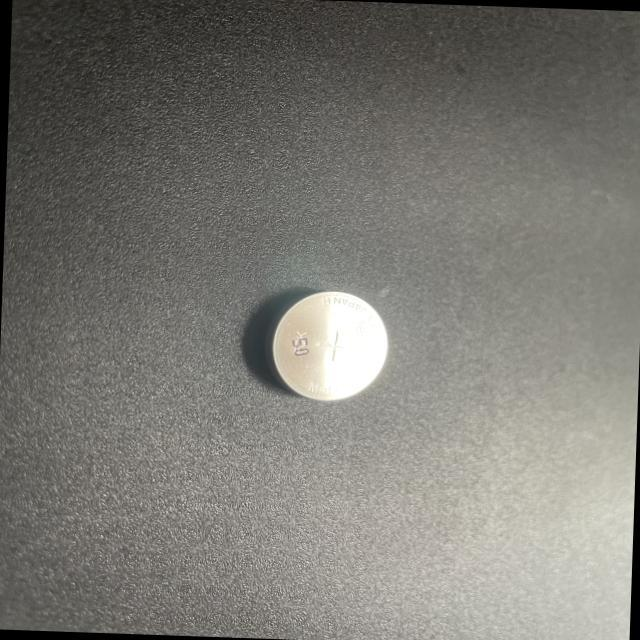COIN: (263, 285, 391, 405)
